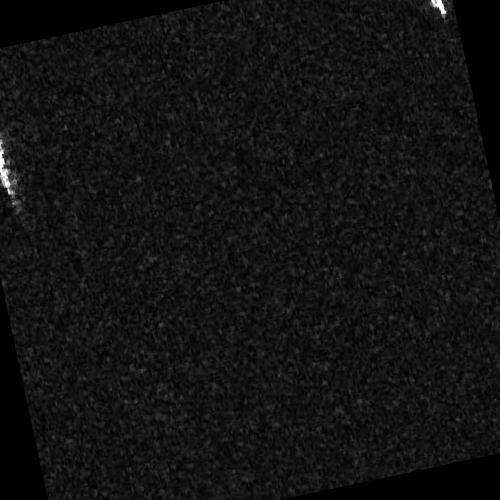ship: (0, 134, 15, 201), (429, 0, 448, 17)
